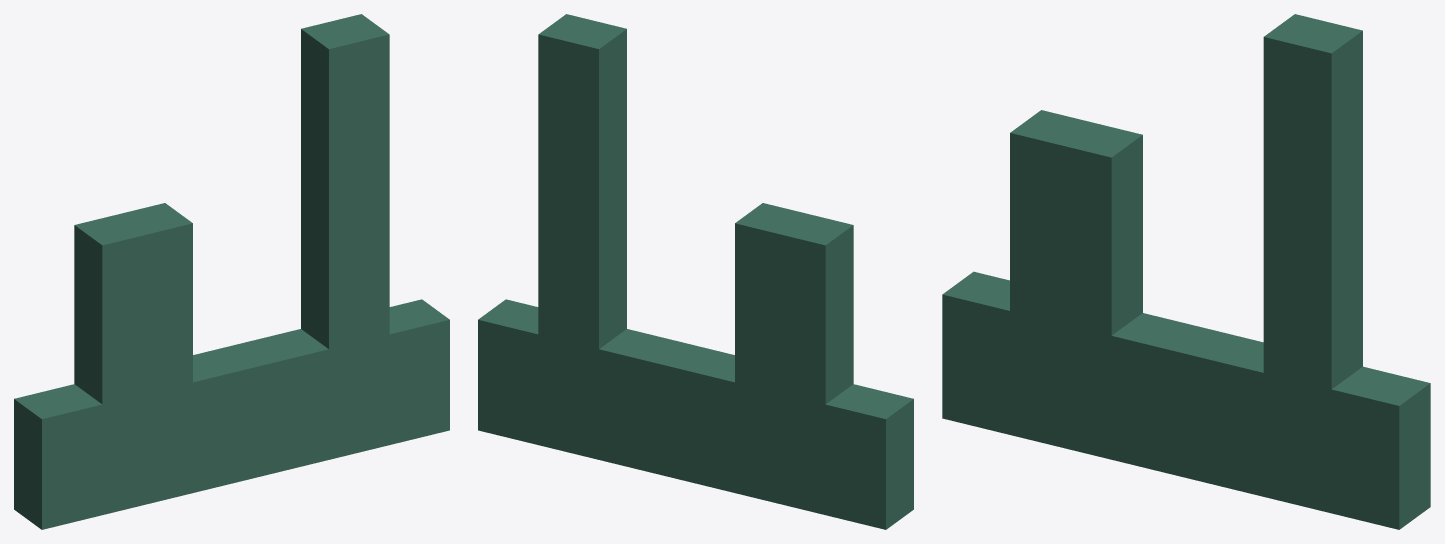
The model's file is pi_original.obj.
The picture shows the model from 3 angles, left to right: view 1: azimuth 30°, elevation 25°; view 2: azimuth 150°, elevation 25°; view 3: azimuth 330°, elevation 25°; orthographic projection. The views are drawn at different scales.
Visible parts, largest first — view 1: pi; view 2: pi; view 3: pi.
Part boxes in pixels (bbox=[...]): pi: bbox=[14, 14, 449, 529]; pi: bbox=[478, 14, 913, 529]; pi: bbox=[942, 14, 1430, 529].
Size of the model in its own units: 1.35 by 1.3 by 0.16.
